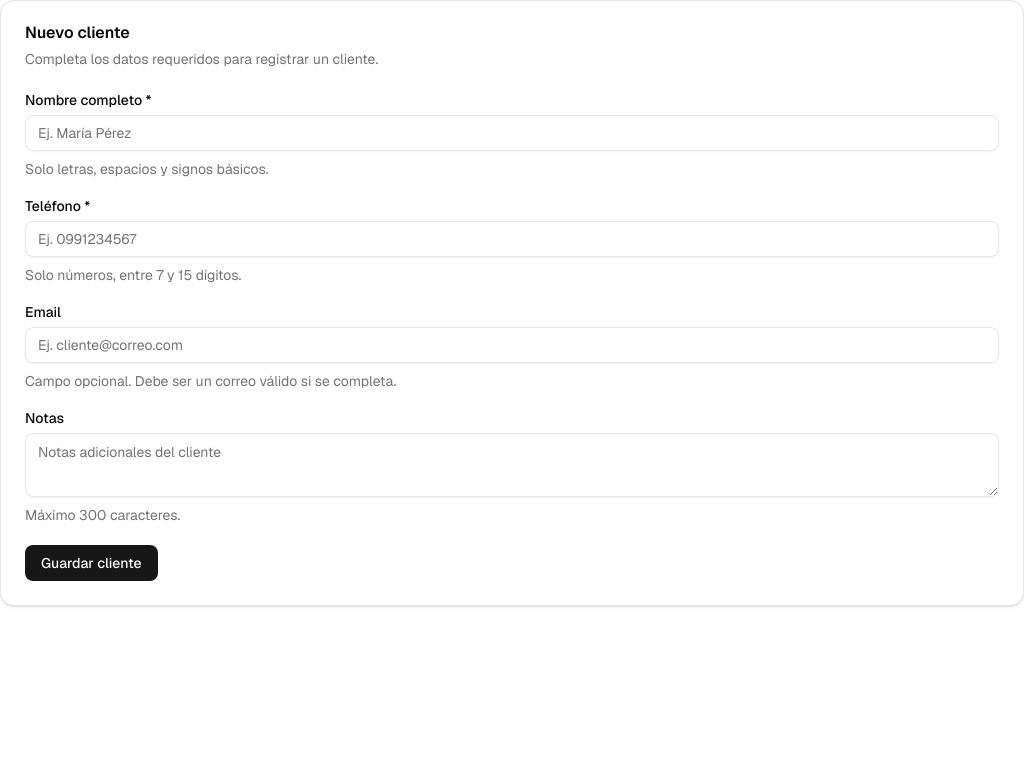
Test: ClientForm › muestra toast de error y mensaje root si falla el guardado
This screenshot has width=1024, height=768.
Step 1. Type "María Pérez" into the field labelled "Nombre completo *" → x=512, y=133, box [25,115,999,151]
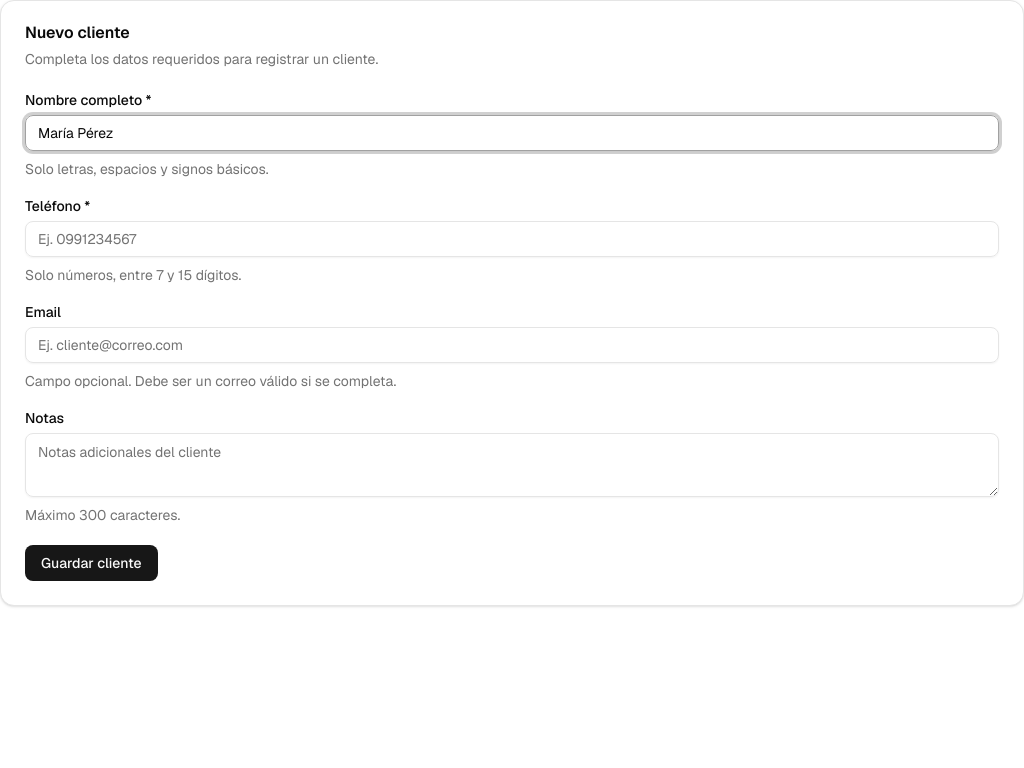
Step 2. Type "0991234567" into the field labelled "Teléfono *" → x=512, y=239, box [25,221,999,257]
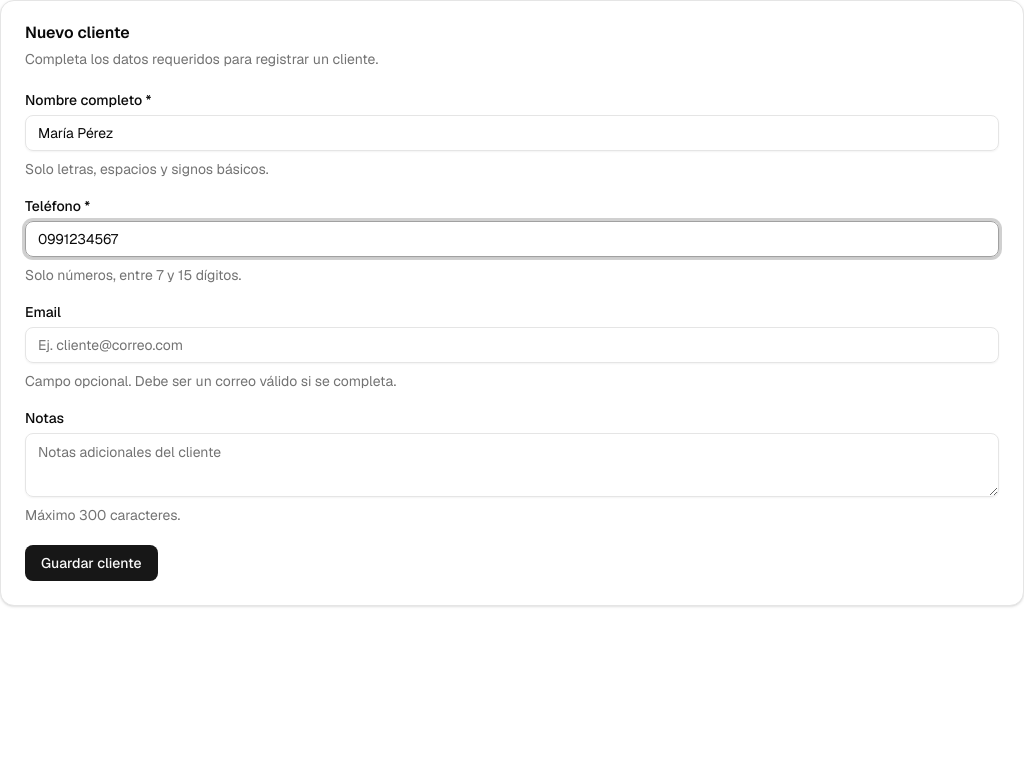
Step 3. Click the button "Guardar cliente" → x=91, y=563, box [25,545,158,581]
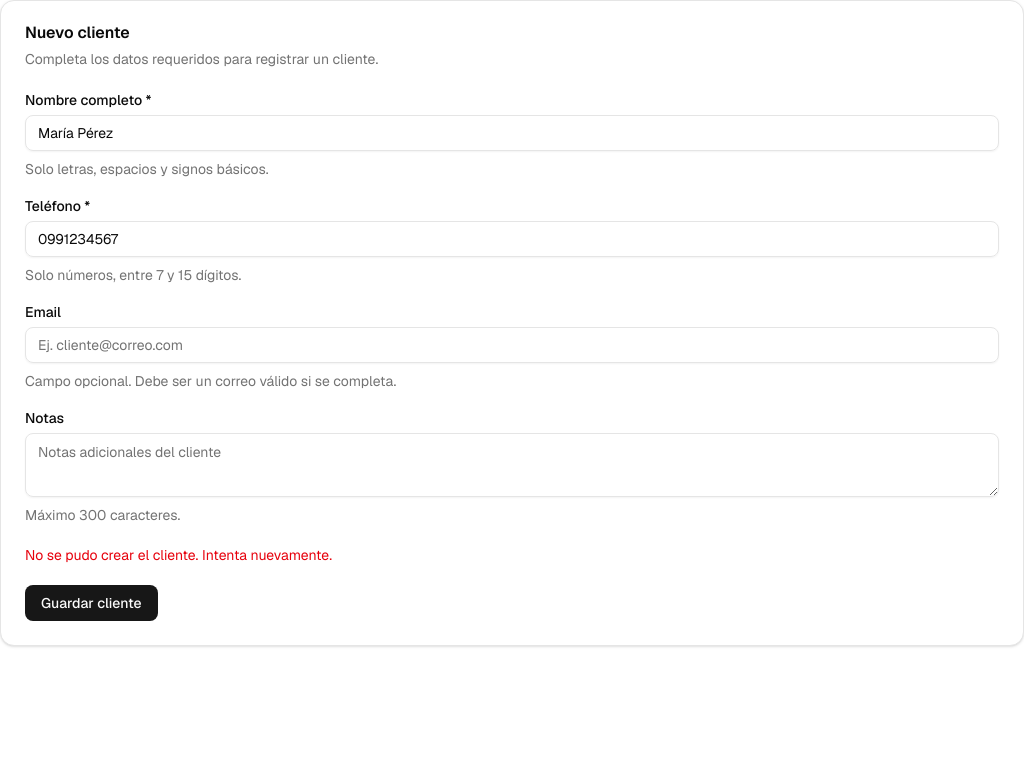
Expected: the text "No se pudo crear el cliente. Intenta nuevamente." is shown, [25,546,332,564]
